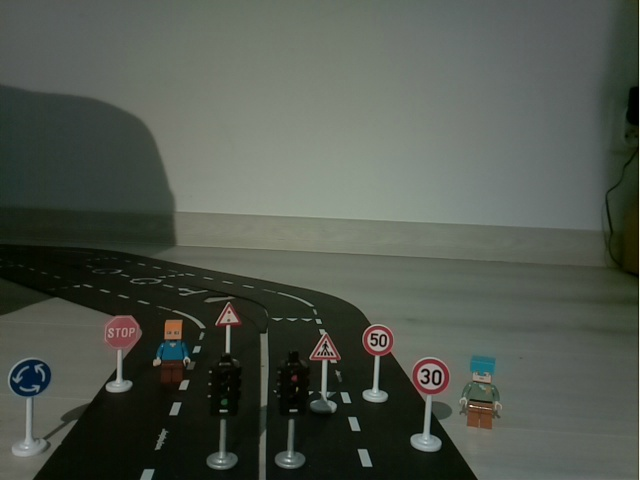green light: (209, 357, 241, 473)
limit 30: (409, 356, 450, 454)
limit 50: (360, 321, 394, 407)
pedestrian sign: (311, 330, 342, 415)
person: (153, 317, 194, 388)
red light: (275, 351, 307, 472)
round: (4, 355, 55, 461)
second person: (453, 351, 509, 433)
stop: (104, 313, 141, 400)
traffic light sign: (213, 300, 239, 353)
